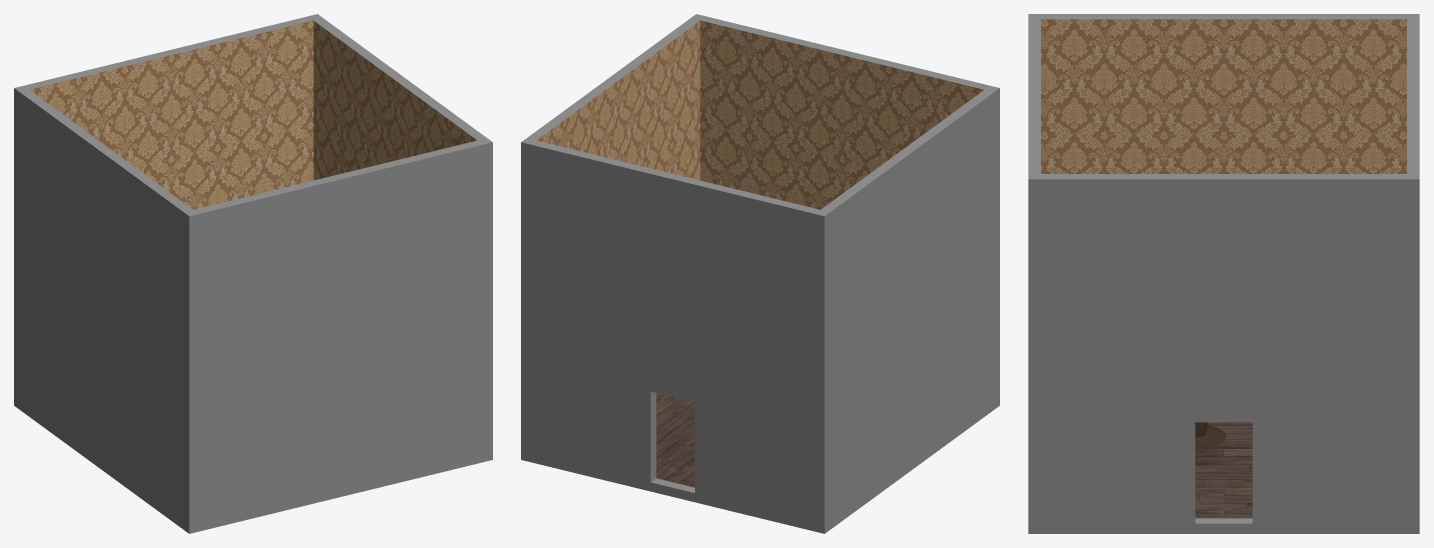
The model's file is Dining_Room.FBX.
The picture shows the model from 3 angles, left to right: view 1: azimuth 30°, elevation 25°; view 2: azimuth 150°, elevation 25°; view 3: azimuth 270°, elevation 25°; orthographic projection. The views are drawn at different scales.
Parts seen in each view (by area): view 1: Dining_Room; view 2: Dining_Room; view 3: Dining_Room.
Part boxes in pixels (left/top/right/bottom): Dining_Room: left=14, top=14, right=492, bottom=533; Dining_Room: left=521, top=14, right=999, bottom=533; Dining_Room: left=1028, top=14, right=1419, bottom=533.
Bounding box in the file's own units: 500 × 500 × 500.
